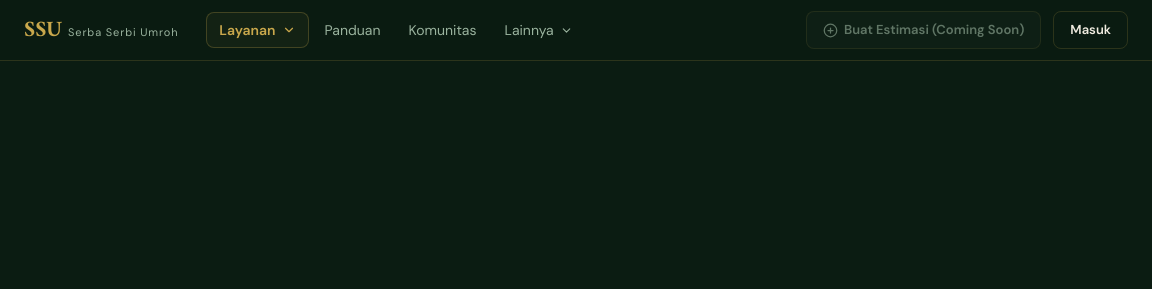
it: NavBar single-open coordination › closes the open menu on an outside mousedown
The image size is (1152, 289).
Click the button "Lainnya": (539, 30) [492, 13, 585, 47]
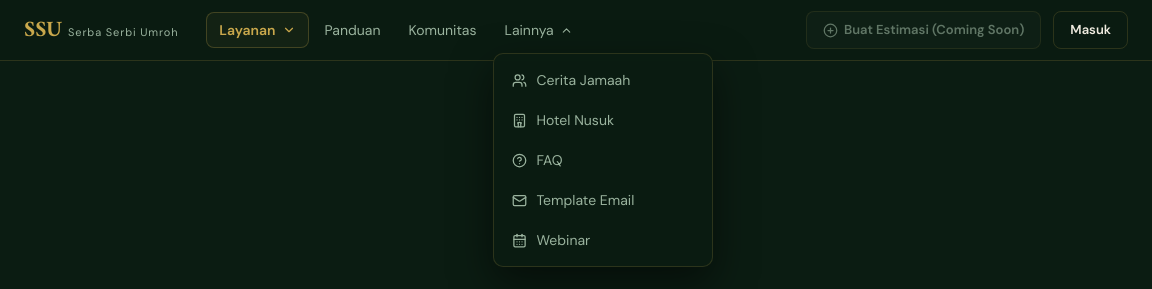
Expected: the link "FAQ" is shown, [512, 151, 563, 169]
Press the mouse on the element that starts with "SSU": (576, 30) [0, 0, 1151, 61]
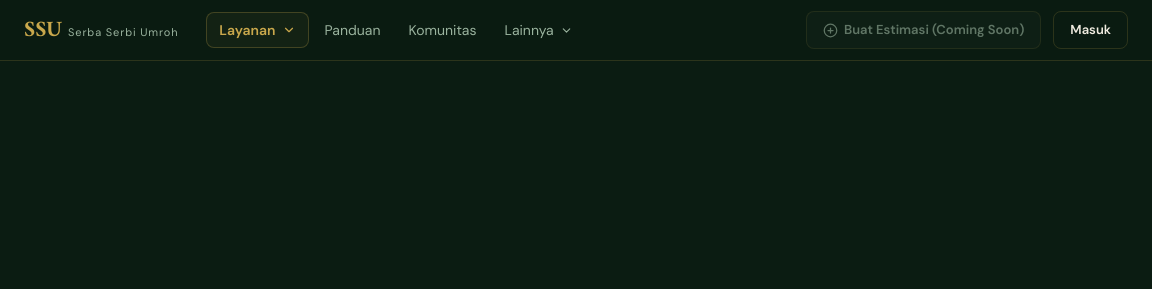
Expected: the link "FAQ" is gone
